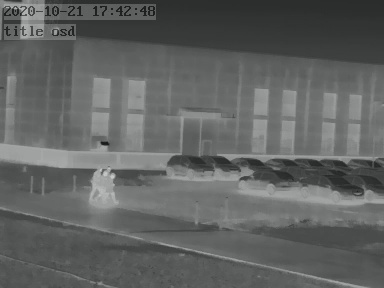person: (102, 166, 121, 207), (89, 164, 101, 200)
vehicle: (301, 170, 362, 199), (238, 169, 302, 191), (164, 153, 213, 179), (203, 153, 242, 177), (349, 173, 383, 200), (232, 154, 270, 171), (261, 155, 296, 169), (347, 156, 380, 170), (295, 155, 324, 169), (318, 156, 348, 169)
